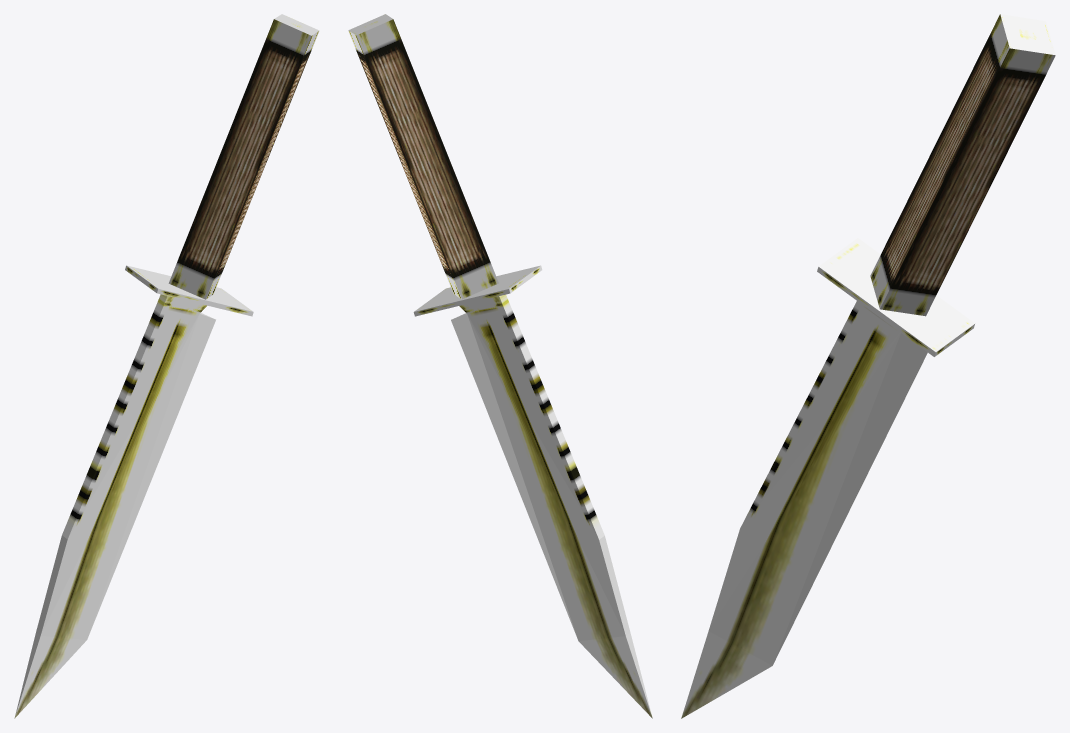
The model's file is cpyicon.ico.obj.
3 renders of one model, left to right at view 1: azimuth 30°, elevation 25°; view 2: azimuth 150°, elevation 25°; view 3: azimuth 330°, elevation 25°, orthographic. The views are drawn at different scales.
Size of the model in its own units: 2.26 by 4.5 by 0.4104.
1 material, 1 textured.
